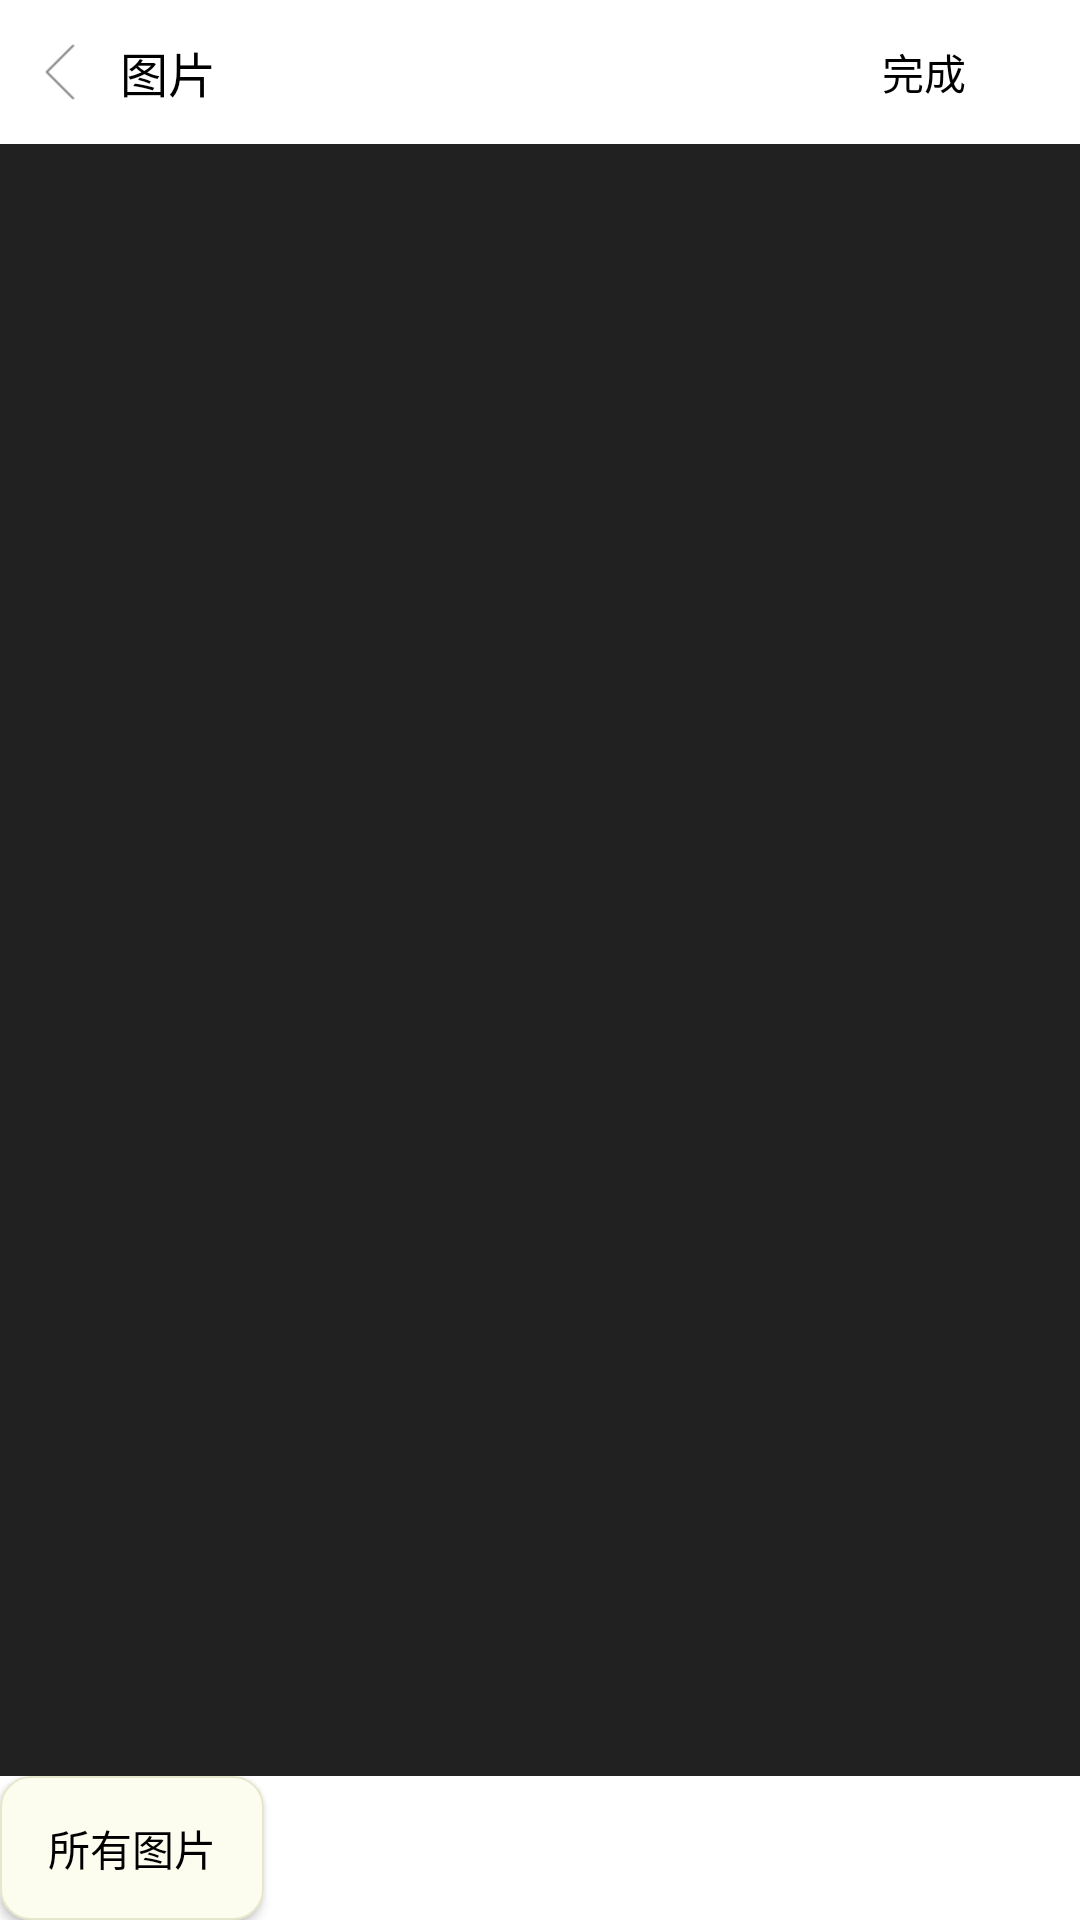

Locate icon controls on the screen. Image size 1080 x 1920, boxes as (x1, y1, x2, y2).
back: (45, 45, 75, 99)
